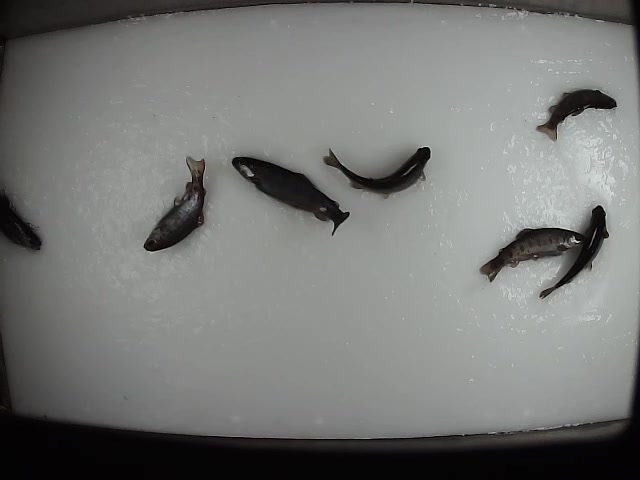fish: (230, 154, 353, 239), (140, 152, 212, 257), (537, 201, 610, 302), (318, 140, 433, 201), (479, 225, 586, 284), (534, 87, 619, 144)
